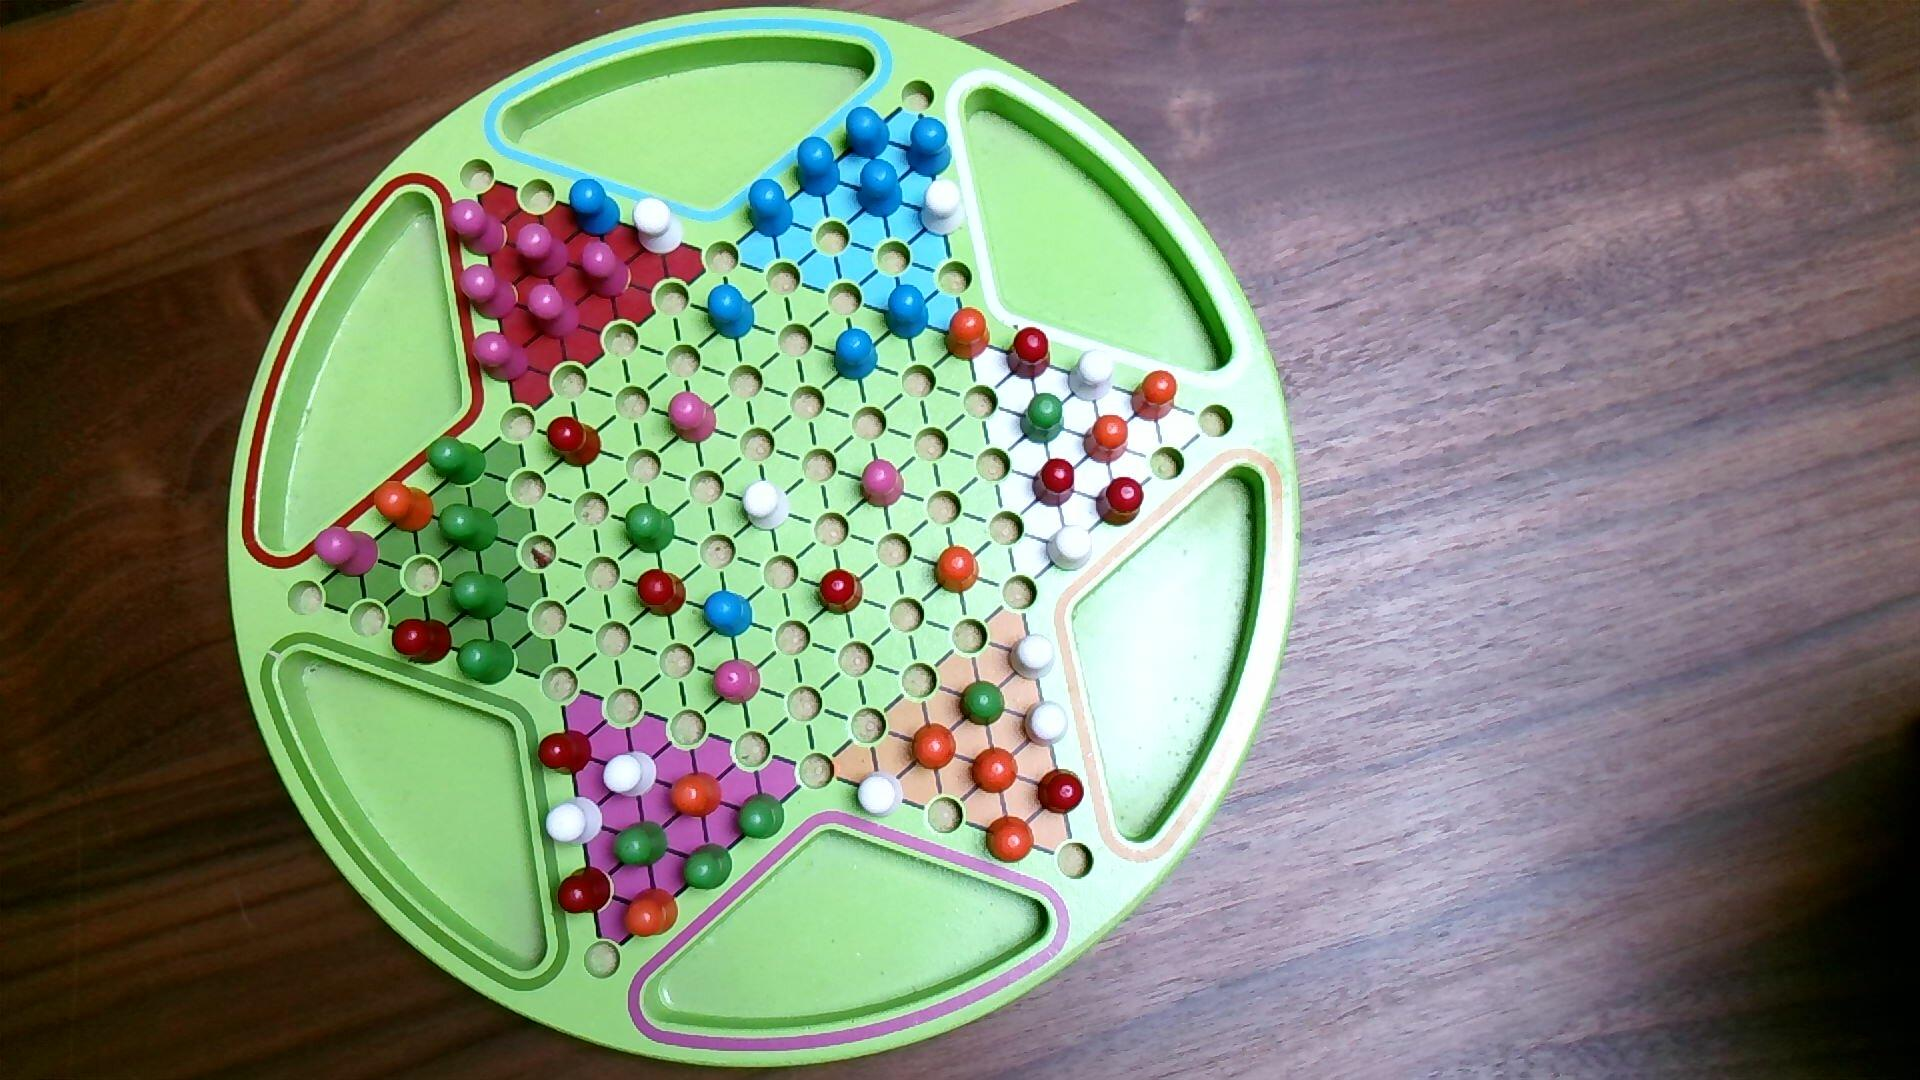B: (567, 178, 622, 240), (855, 157, 905, 222), (794, 135, 843, 200), (905, 115, 953, 179), (746, 178, 795, 241), (705, 284, 757, 343), (882, 284, 931, 342), (702, 589, 756, 640), (831, 328, 880, 384), (844, 105, 893, 161)
G: (446, 568, 512, 622), (425, 434, 489, 488), (436, 502, 502, 554), (455, 637, 518, 688), (611, 820, 671, 872), (622, 502, 676, 556), (680, 843, 735, 893), (1018, 392, 1065, 446), (736, 791, 786, 841), (957, 678, 1007, 728)
O: (372, 479, 435, 535), (620, 885, 680, 940), (943, 305, 992, 365), (1129, 369, 1182, 425), (669, 770, 725, 820), (984, 814, 1036, 865), (969, 746, 1021, 796), (1083, 414, 1131, 467), (910, 723, 959, 774), (934, 545, 981, 597)
R: (390, 617, 454, 667), (545, 415, 603, 469), (556, 865, 615, 916), (1095, 475, 1147, 530), (634, 567, 688, 620), (1005, 326, 1054, 382), (535, 729, 593, 777), (1035, 767, 1087, 818), (816, 566, 865, 618), (1031, 456, 1077, 510)
R2: (311, 525, 381, 580), (446, 196, 508, 258), (458, 262, 520, 323), (524, 284, 583, 342), (513, 222, 570, 282), (578, 240, 633, 301), (469, 331, 531, 385), (666, 390, 719, 447), (709, 657, 764, 708), (858, 458, 906, 510)
W: (543, 795, 607, 851), (630, 196, 687, 257), (918, 178, 968, 239), (601, 750, 659, 800), (741, 477, 793, 533), (1068, 348, 1117, 405), (855, 770, 905, 822), (1021, 699, 1071, 750), (1006, 633, 1058, 683), (1044, 524, 1095, 574)
